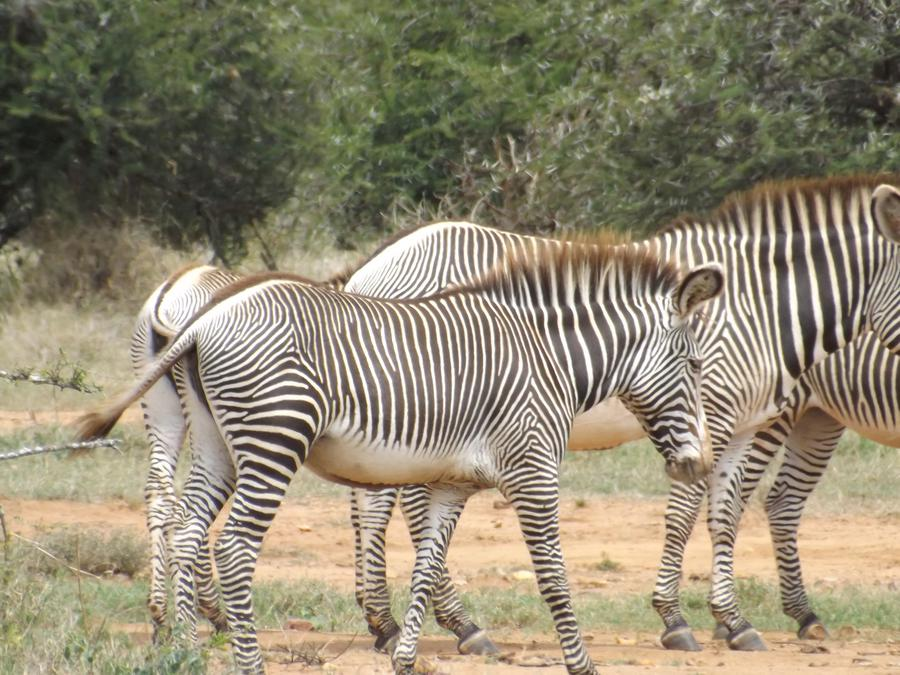zebra_grevys: (192, 291, 559, 466)
